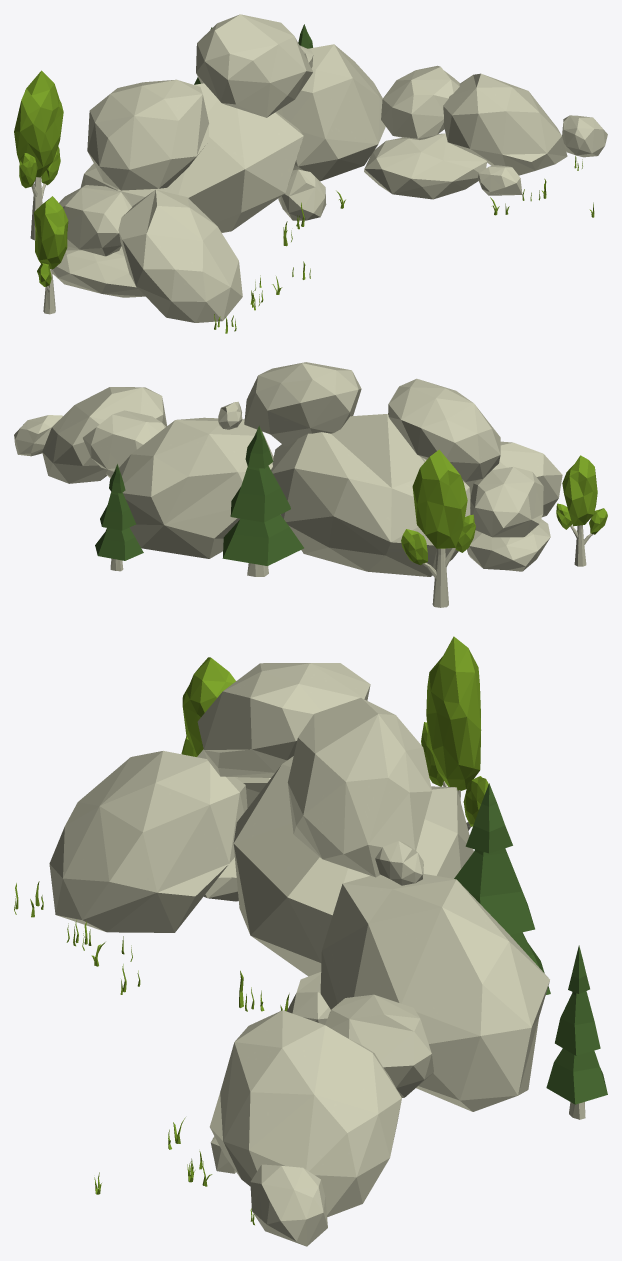
File: batu.fbx
3 renders of one model, top to bottom at view 1: azimuth 30°, elevation 25°; view 2: azimuth 150°, elevation 25°; view 3: azimuth 270°, elevation 25°, orthographic. The views are drawn at different scales.
Visible parts, largest first — view 1: Камень.003, Камень.005, Камень.013, Камень, Камень.002, Камень.008, Камень.009, Крона дерева.005, Камень.001, Камень.012, Камень.004, Крона дерева.003 (+5 smaller); view 2: Камень.005, Камень, Камень.013, Камень.002, Крона ёлки.005, Камень.008, Крона дерева.005, Камень.012, Камень.001, Камень.004, Крона дерева.003, Крона ёлки.001 (+5 smaller); view 3: Камень, Камень.003, Камень.008, Камень.002, Камень.005, Камень.013, Крона дерева.005, Камень.001, Крона ёлки.005, Крона ёлки.001, Камень.006, Крона дерева.003 (+4 smaller).
Boxes of the visible parts, box(x1,y1,x2,y2) form: Камень.003: box(118, 189, 242, 322); Камень.005: box(80, 83, 303, 232); Камень.013: box(87, 79, 209, 190); Камень: box(276, 44, 385, 181); Камень.002: box(196, 14, 312, 117); Камень.008: box(443, 73, 567, 175); Камень.009: box(364, 133, 486, 199); Крона дерева.005: box(14, 70, 63, 188); Камень.001: box(381, 65, 459, 139); Камень.012: box(59, 185, 132, 256); Камень.004: box(52, 246, 145, 297); Крона дерева.003: box(33, 196, 68, 286); Камень.005: box(271, 414, 470, 576); Камень: box(119, 417, 273, 558); Камень.013: box(388, 378, 500, 481); Камень.002: box(244, 362, 361, 446); Крона ёлки.005: box(222, 425, 303, 565); Камень.008: box(42, 387, 166, 483); Крона дерева.005: box(401, 449, 475, 565); Камень.012: box(470, 467, 543, 537); Камень.001: box(83, 410, 165, 471); Камень.004: box(467, 519, 550, 571); Крона дерева.003: box(556, 455, 607, 534); Крона ёлки.001: box(95, 464, 143, 560); Камень: box(320, 874, 549, 1111); Камень.003: box(49, 751, 247, 932); Камень.008: box(209, 1010, 401, 1217); Камень.002: box(287, 698, 432, 877); Камень.005: box(233, 756, 473, 976); Камень.013: box(197, 663, 370, 777); Крона дерева.005: box(421, 636, 488, 826); Камень.001: box(325, 994, 433, 1097); Крона ёлки.005: box(454, 783, 550, 994); Крона ёлки.001: box(546, 945, 607, 1104); Камень.006: box(250, 1164, 327, 1246); Крона дерева.003: box(181, 657, 235, 756).
Size of the model in its own units: 148 by 48.19 by 84.98.
